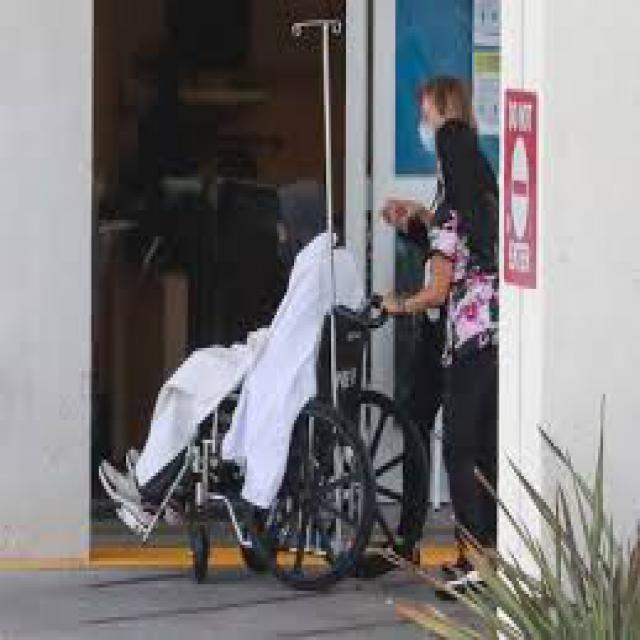wheelchairs: (111, 292, 430, 584)
